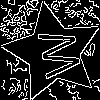W: (28, 27, 82, 82)
